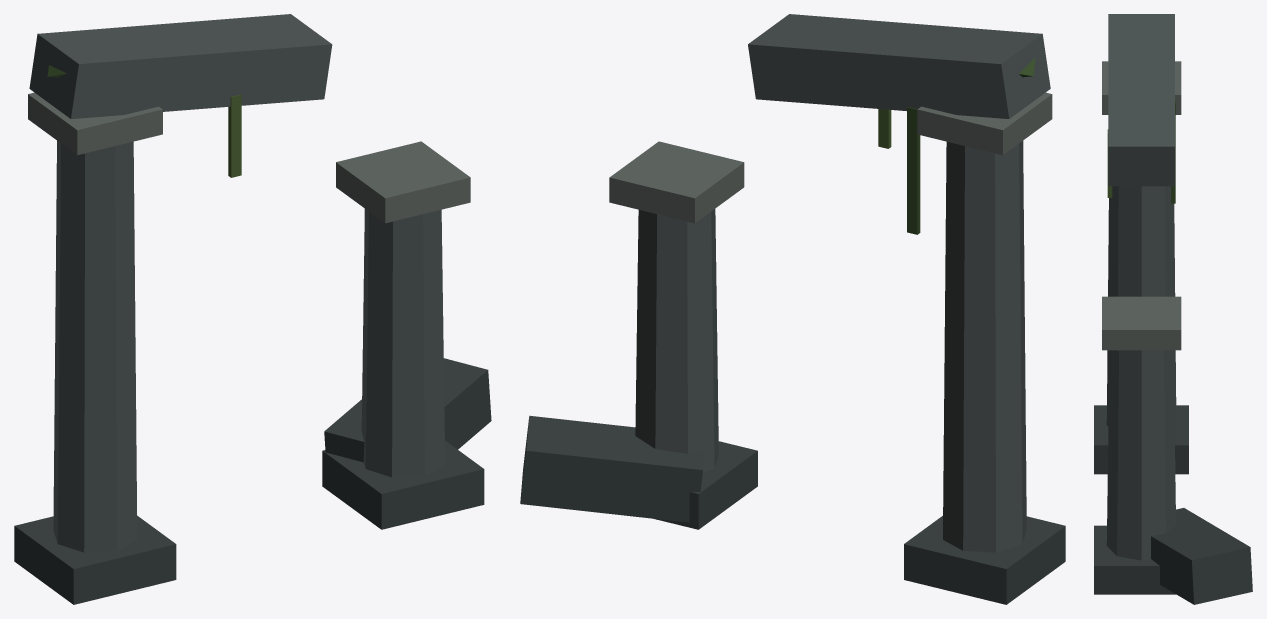
File: decor_arch.glb
3 views of the same model, side by side, from view 1: azimuth 30°, elevation 25°; view 2: azimuth 150°, elevation 25°; view 3: azimuth 270°, elevation 25° (orthographic). The views are drawn at different scales.
Visible parts, largest first — view 1: decor_arch; view 2: decor_arch; view 3: decor_arch.
Part boxes in pixels (x1,y1,x2,y2): decor_arch: [14, 14, 491, 604]; decor_arch: [520, 14, 1065, 604]; decor_arch: [1094, 14, 1252, 604].
Bounding box in the file's own units: 2.81 × 2.97 × 1.
